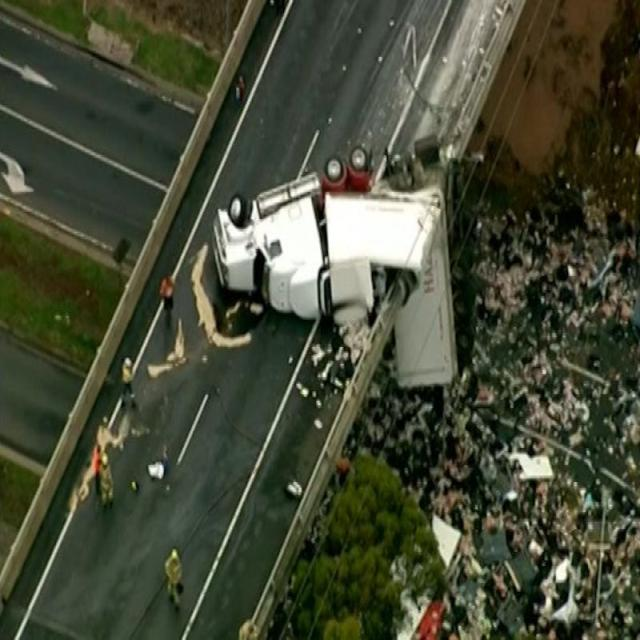traffic_incident: (205, 165, 462, 394)
